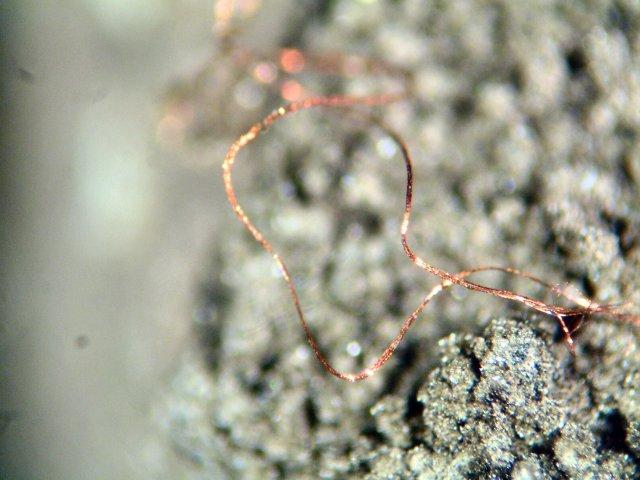copper: (222, 91, 640, 384)
